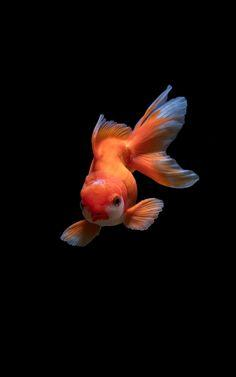goldfish: (51, 77, 216, 264)
